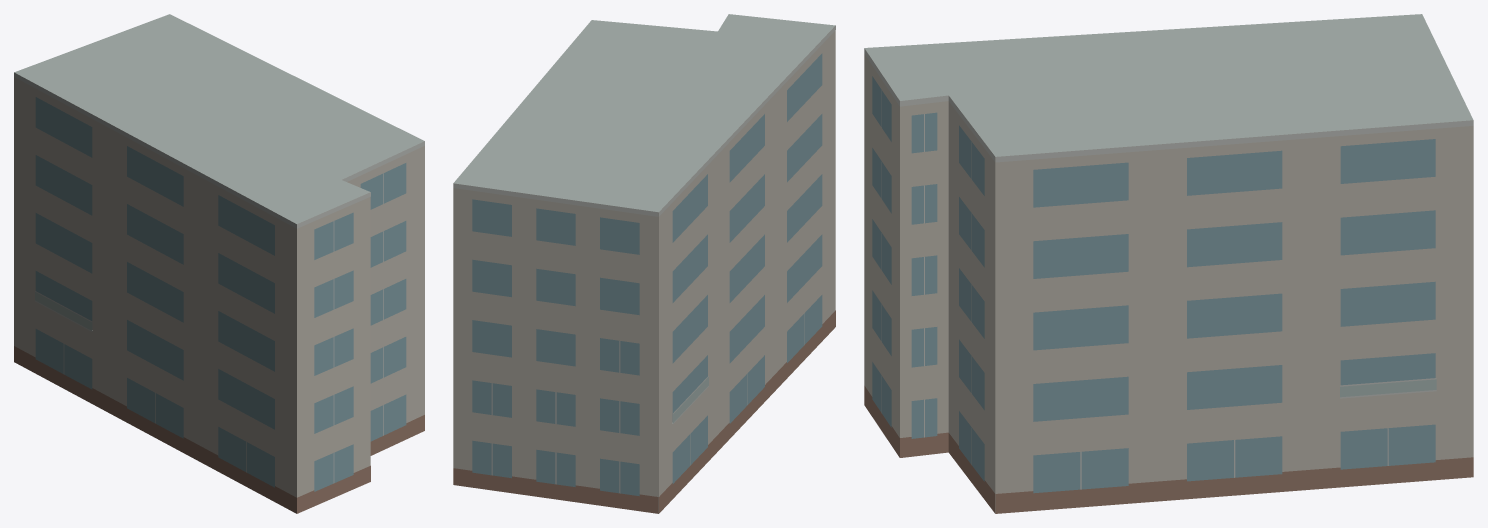
Rendered from survey-upis-33029914.glb.
3 views of the same model, side by side, from view 1: azimuth 30°, elevation 25°; view 2: azimuth 150°, elevation 25°; view 3: azimuth 270°, elevation 25° (orthographic). The views are drawn at different scales.
Visible parts, largest first — view 1: survey-upis-33029914.tmp; view 2: survey-upis-33029914.tmp; view 3: survey-upis-33029914.tmp.
Boxes of the visible parts, x1=… form: survey-upis-33029914.tmp: x1=14, y1=14, x2=424, y2=513; survey-upis-33029914.tmp: x1=453, y1=14, x2=835, y2=513; survey-upis-33029914.tmp: x1=864, y1=14, x2=1473, y2=513.
Size of the model in its own units: 13.4 by 15.6 by 24.14.
